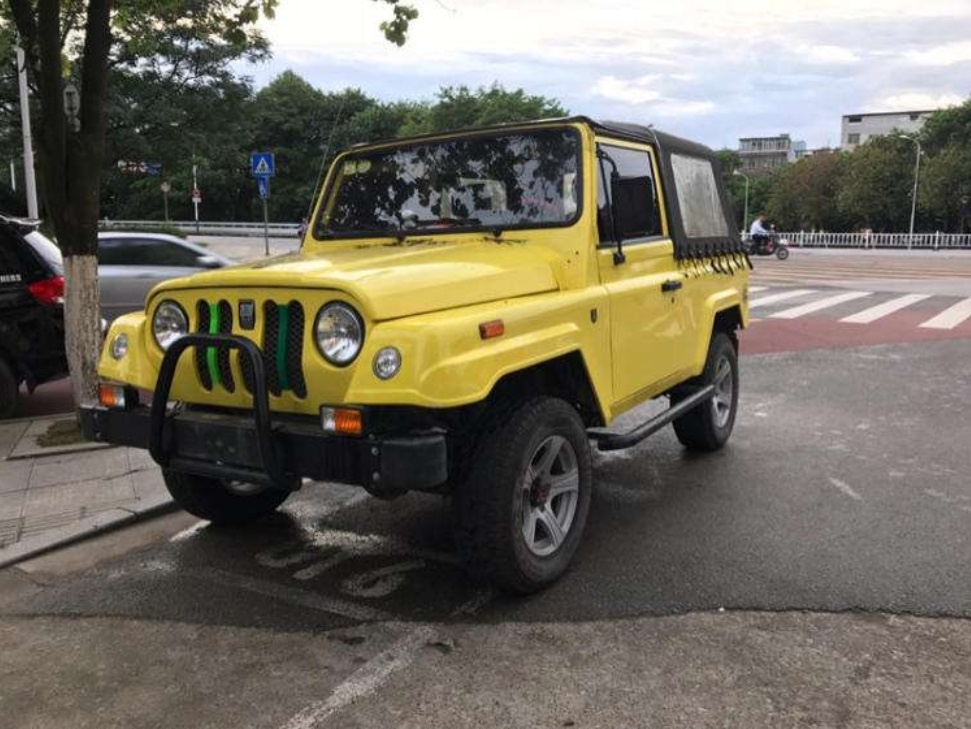jeep: (125, 141, 765, 580)
